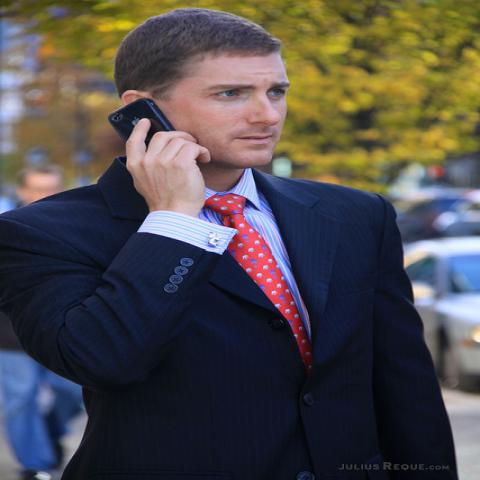car: (400, 236, 479, 393), (400, 198, 480, 241)
